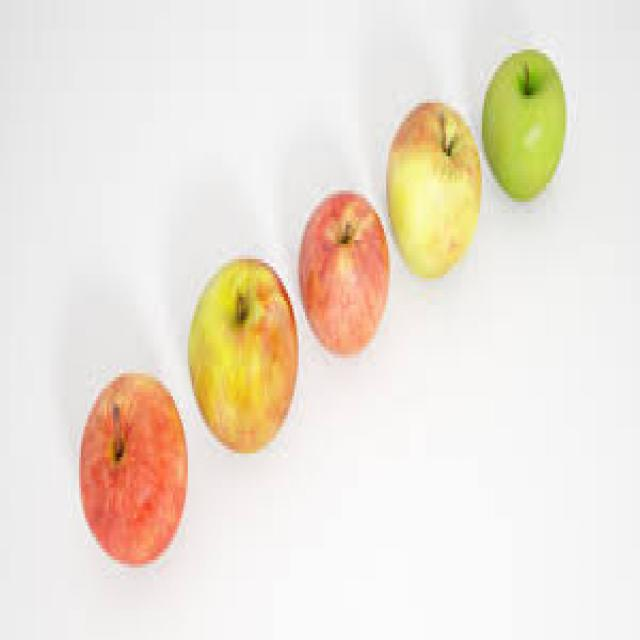organic waste: (74, 366, 188, 564), (186, 256, 296, 454), (384, 99, 480, 278), (297, 187, 388, 354), (480, 42, 565, 198)
